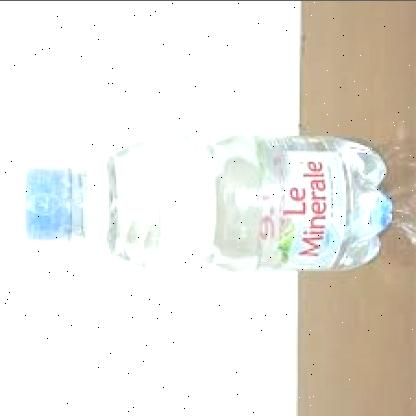Plastic Bottle: (21, 132, 392, 276)
